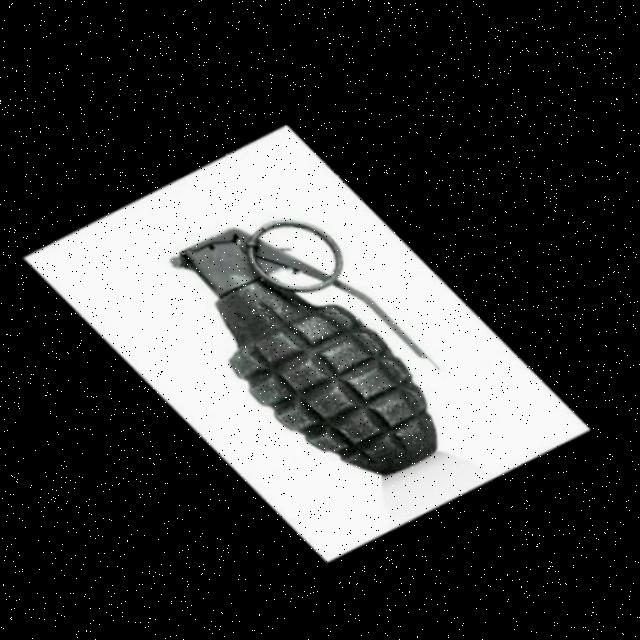grenade: (129, 173, 465, 501)
